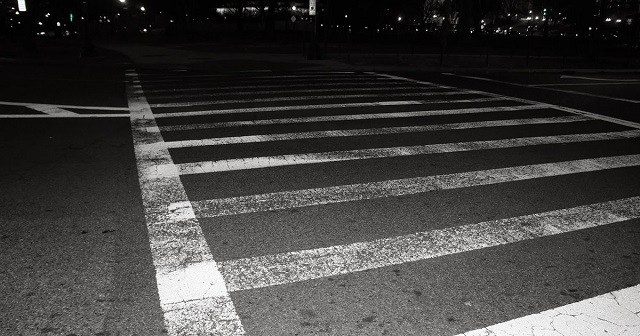pedestrian lane: (114, 47, 640, 336)
